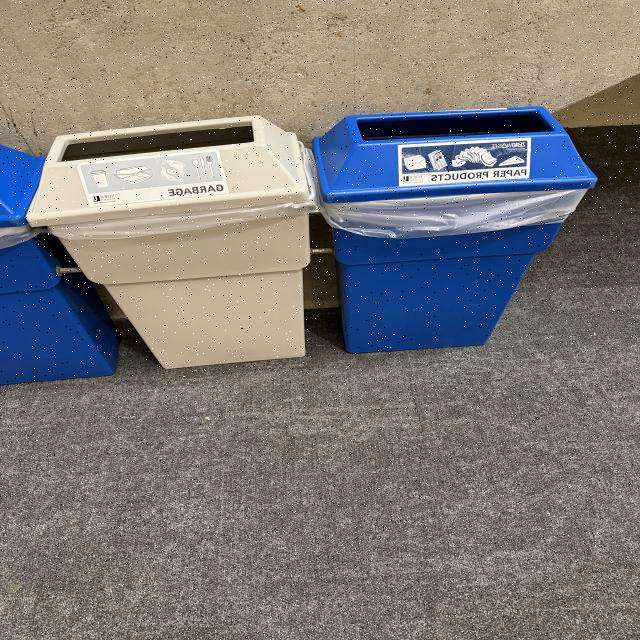Dustbin: (0, 107, 600, 385)
